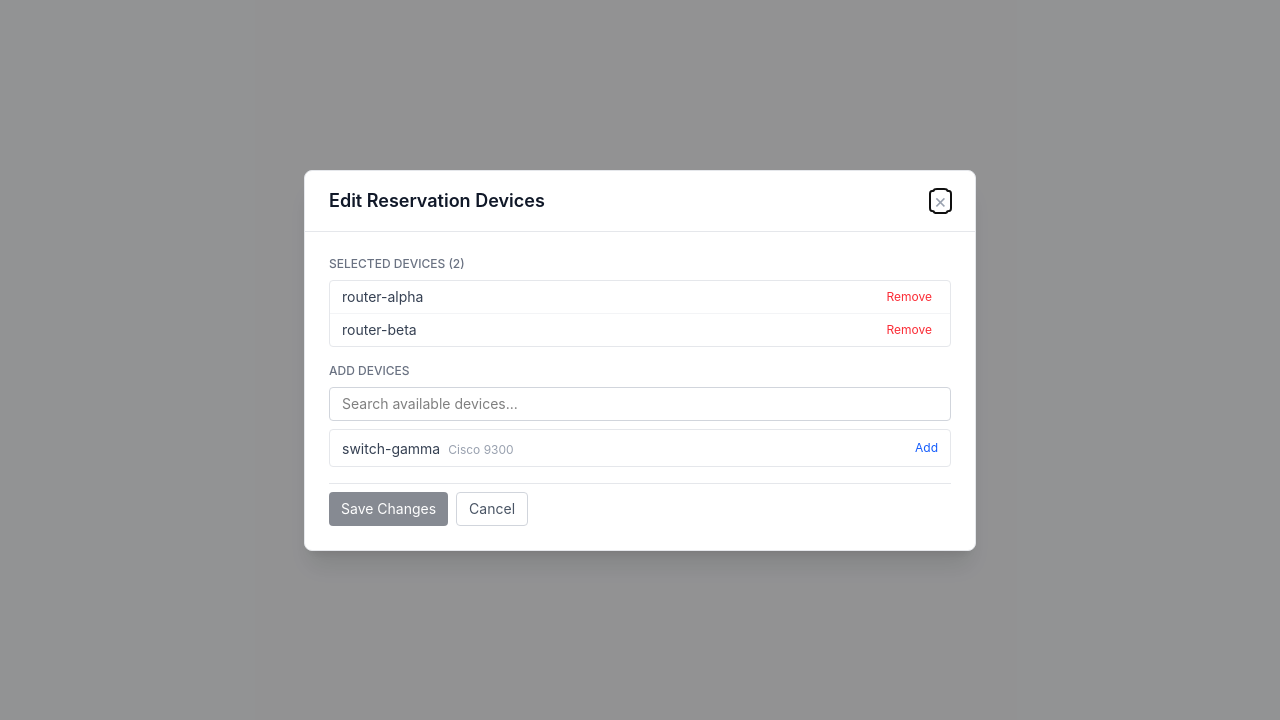
Test case: EditDevicesModal › disables Save until the selection changes
Expected: the text "router-alpha" is shown, [342,286,423,306]
Expected: the button "Save Changes" is disabled, [329,492,448,526]
// Removing a selected device is a change, so Save enables.
Click the button "Remove" in the row of "router-alpha" at (909, 296), box [880,286,938,306]
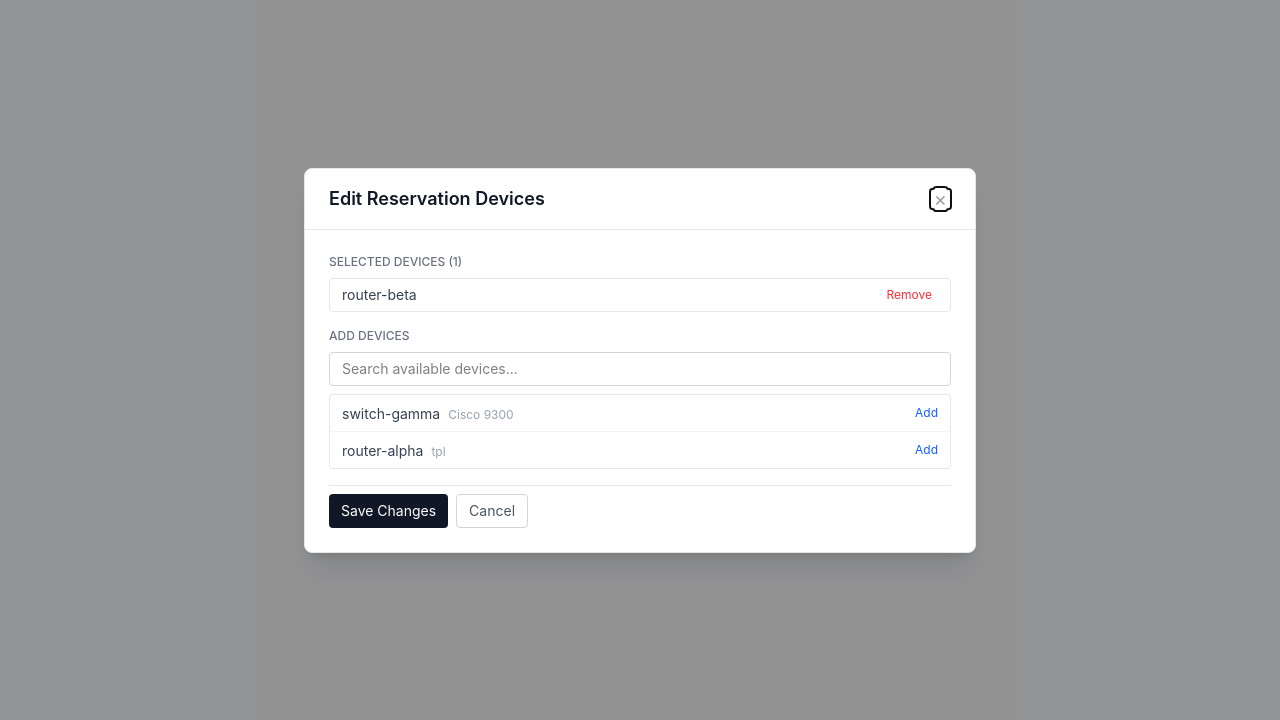
Result: the heading "Selected Devices (1)" is shown at [329,254,462,268]
Result: the button "Save Changes" is enabled at [329,494,448,528]
